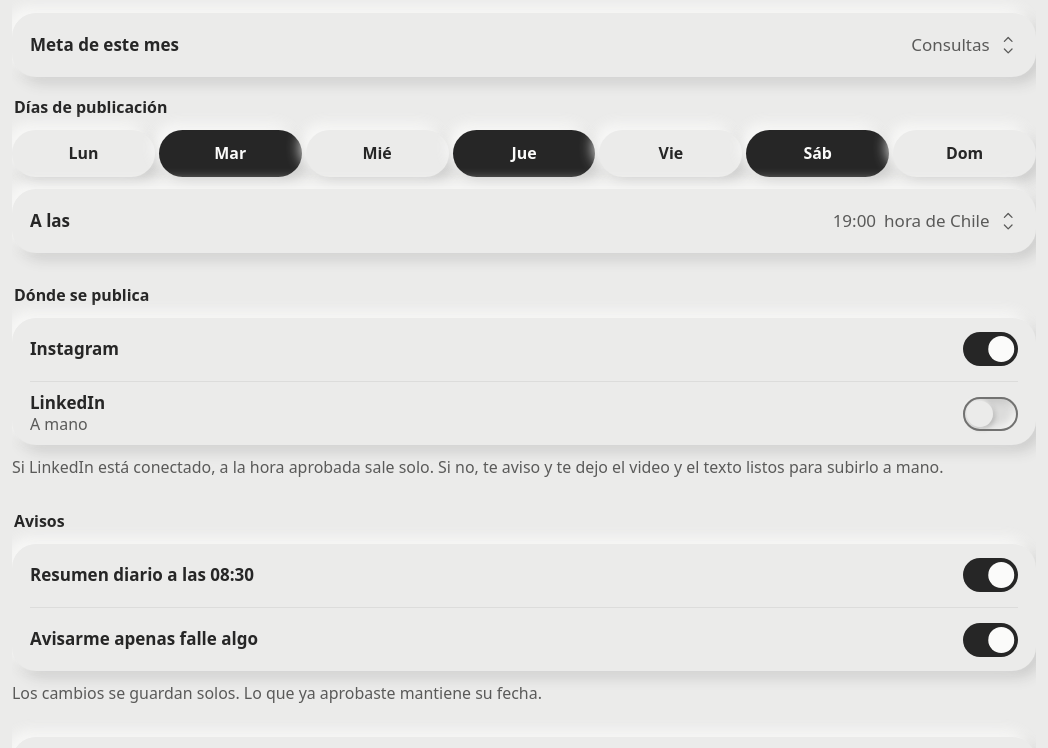
Test: EditorDeAjustes › keeps at least one publishing day
The width and height of the screenshot is (1048, 748).
Click the button "Mar".
click(230, 154)  # box [159, 130, 302, 177]
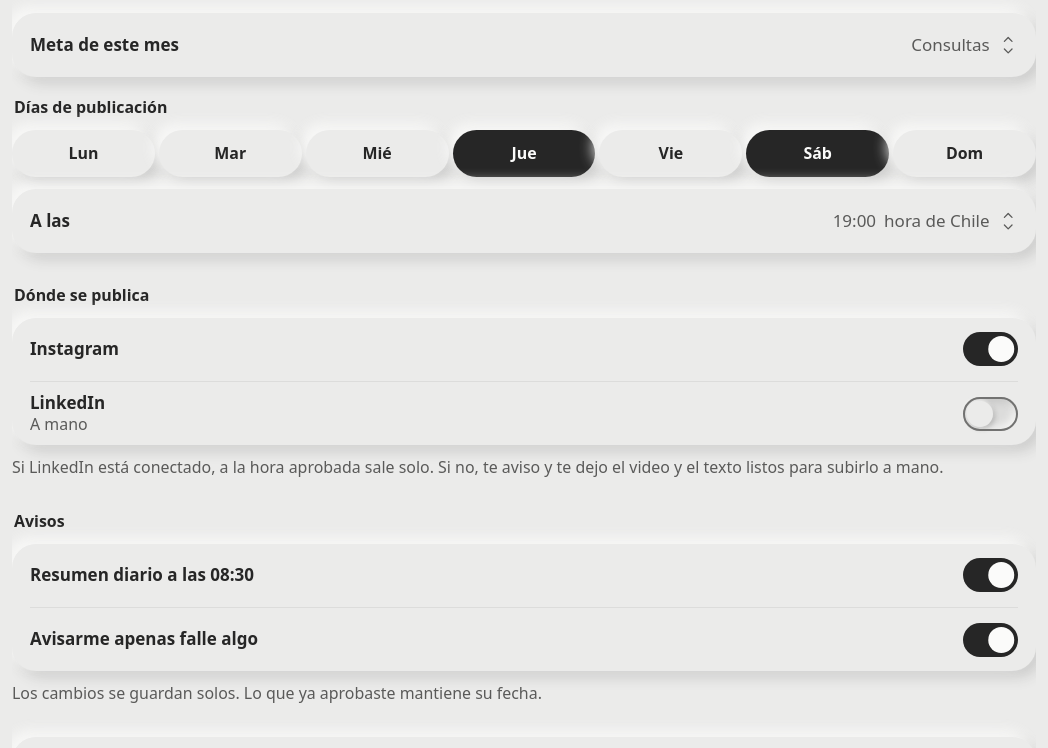
Click the button "Jue".
click(524, 154)  # box [453, 130, 596, 177]
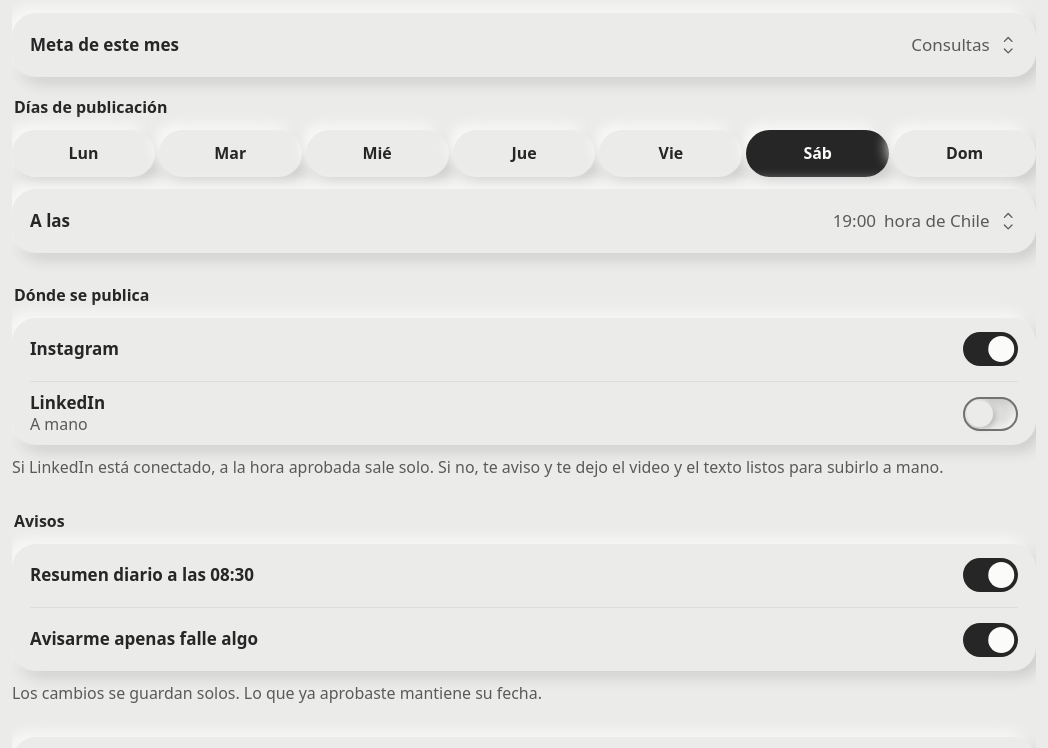
Click the button "Sáb".
click(818, 154)  # box [746, 130, 889, 177]
(page scrolled)
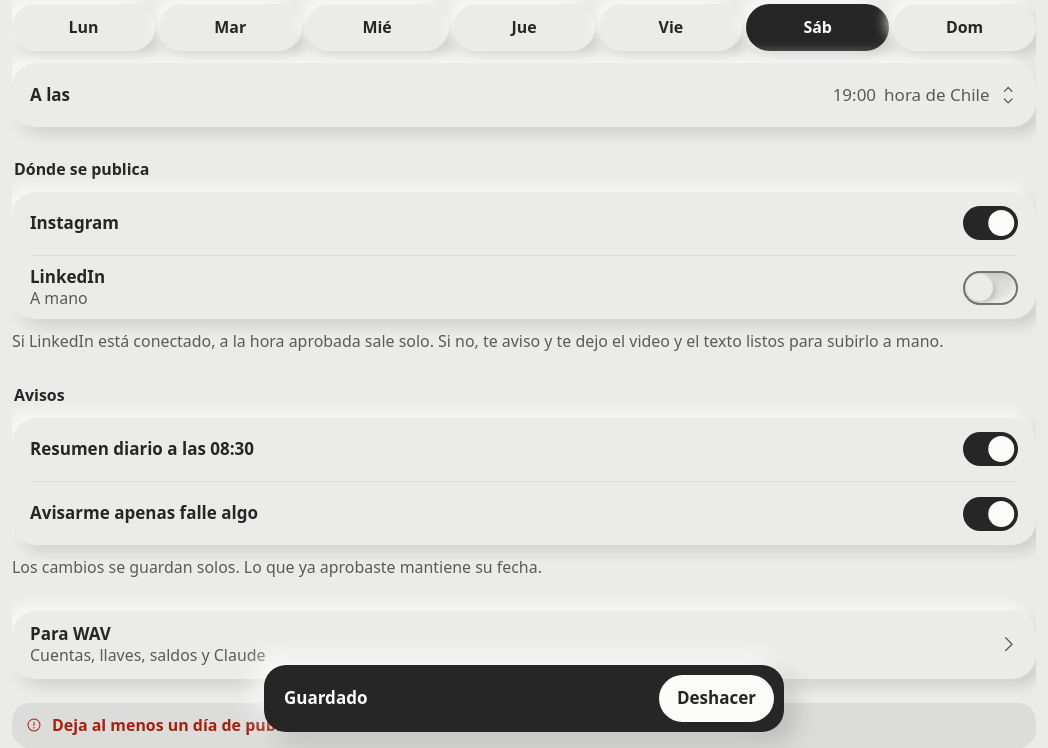
Expected: the text "Deja al menos un día de publicación." is shown, [52, 714, 341, 736]
